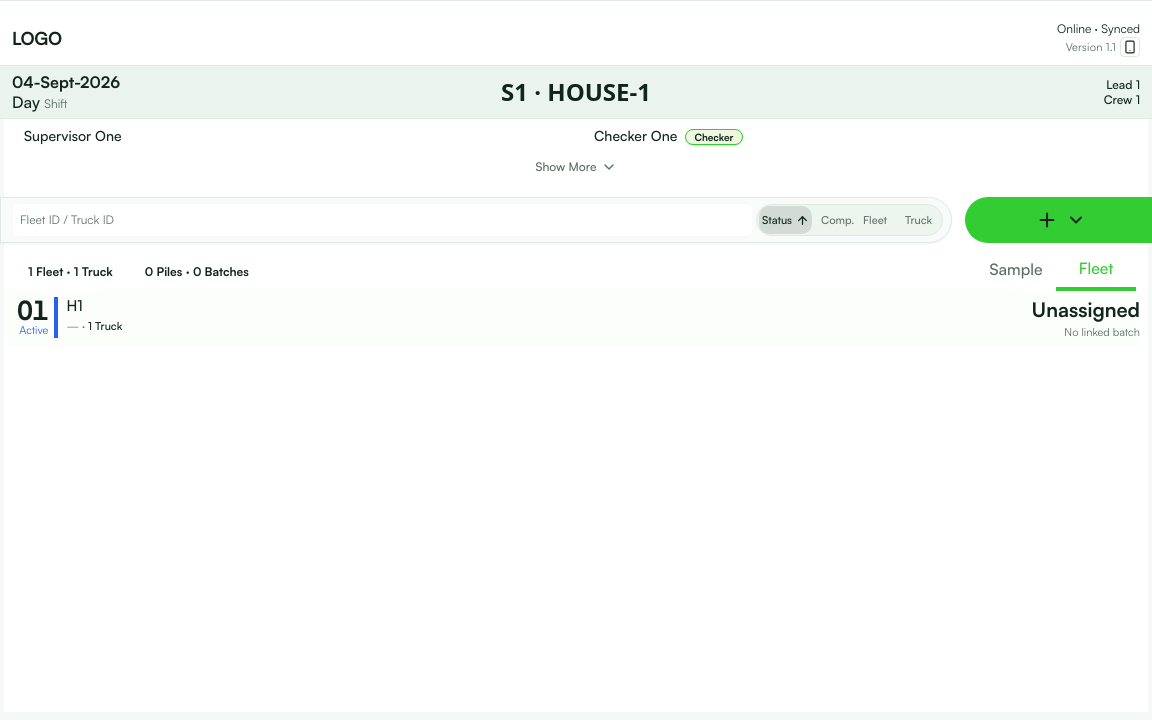
Test: RegistrationPage active-shift Setup › opens the Fleet action popover before Edit Fleet
Expected: the button named "Add Fleet" is shown, [965,197,1151,243]
Click the button with aria-label "Fleet actions for F1" at (33, 318), box [8,297,58,338]
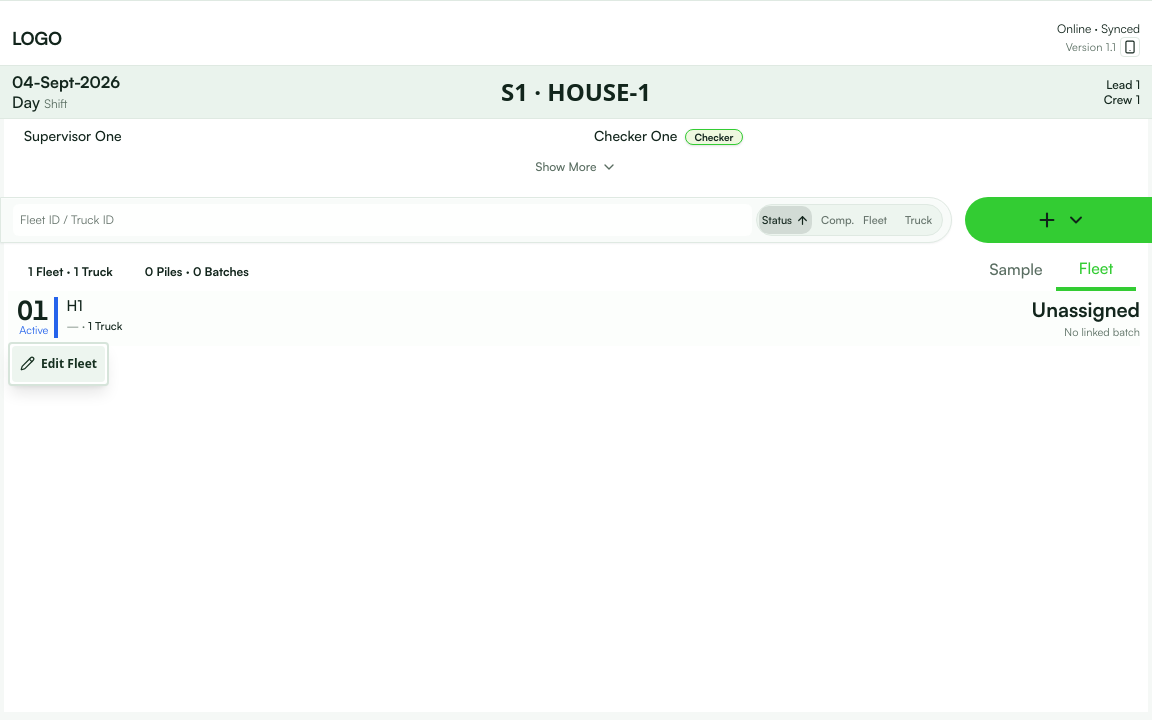
Result: the 6th icon is shown at [20,356,35,371]
Click the menu item "Edit Fleet" at (58, 364), box [12,346,105,382]
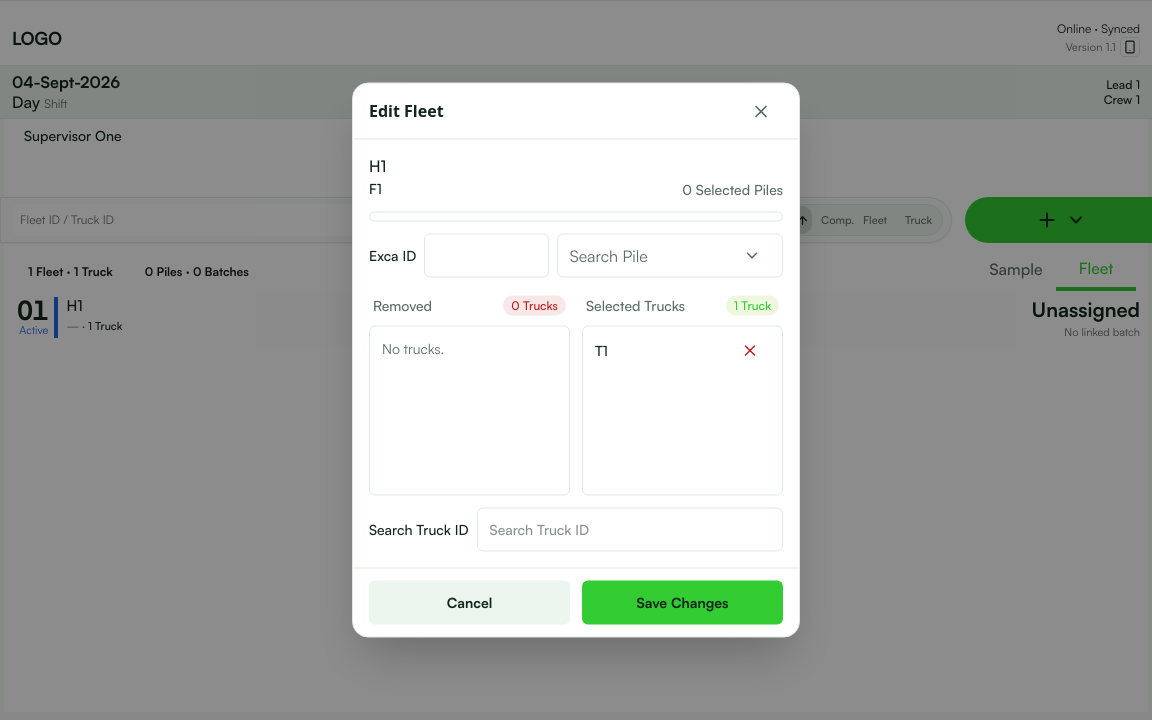
Result: the dialog named "Edit Fleet F1" is shown at [352,82,800,638]
Click the button named "Close Fleet action" at (761, 111), box [739,89,783,133]
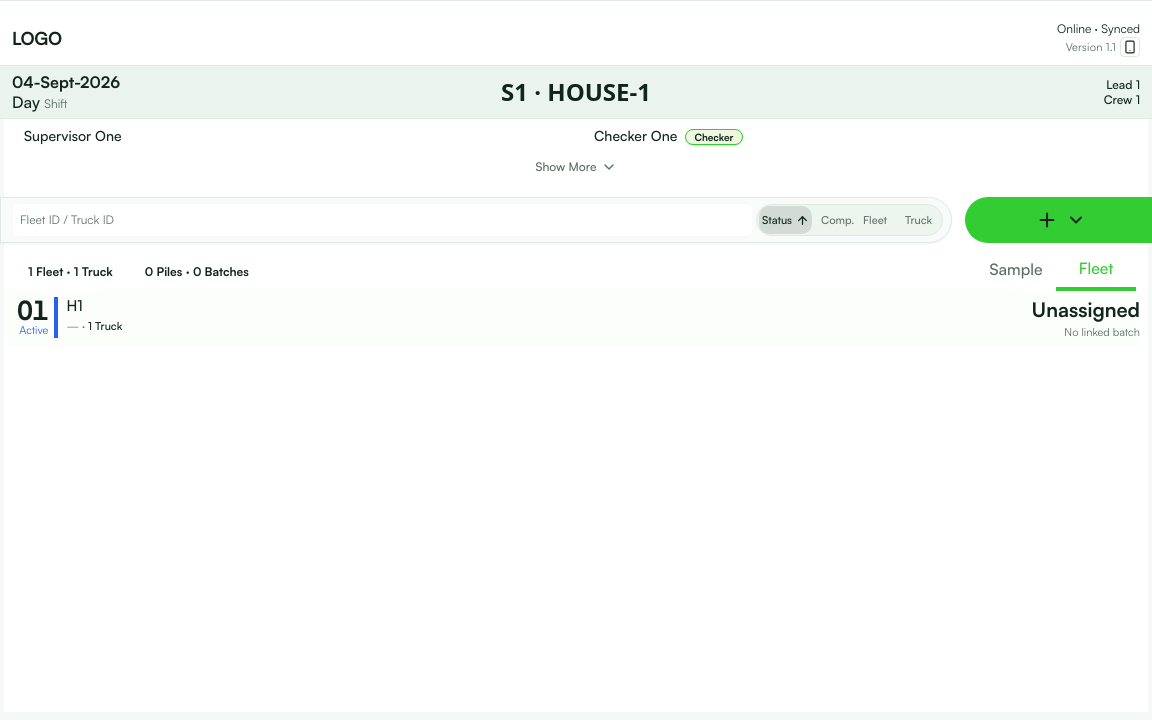
Click the tab "Sample" at (1016, 271), box [976,251,1056,291]
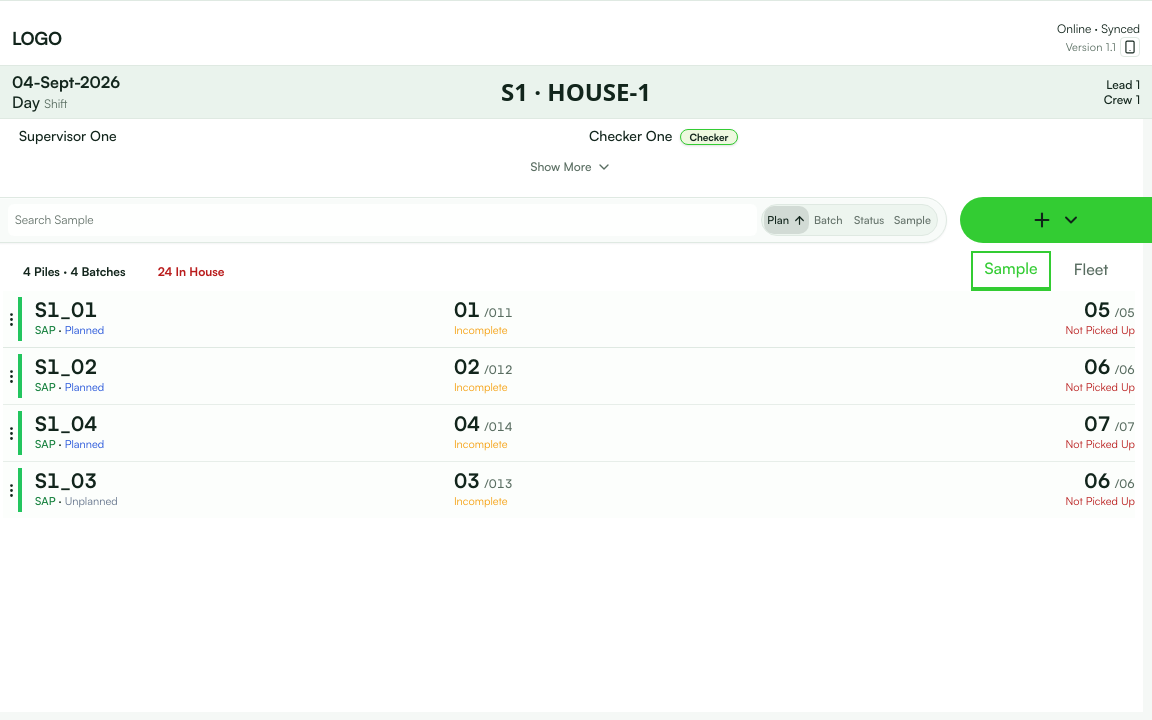
Result: the button named "Add Sample" is shown at [960,197,1151,243]
